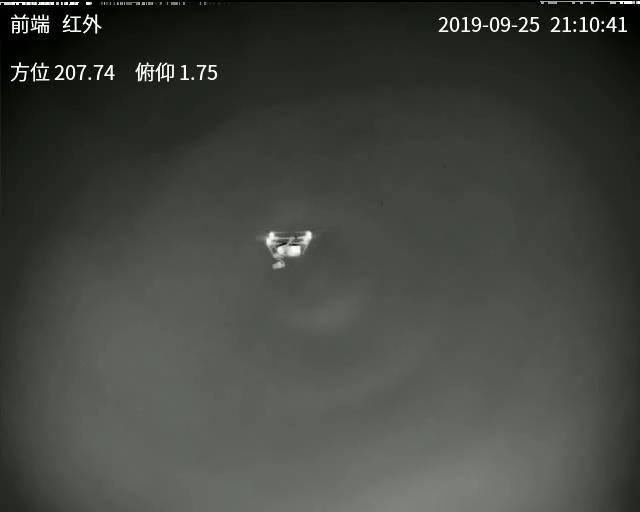uav: (260, 228, 312, 273)
